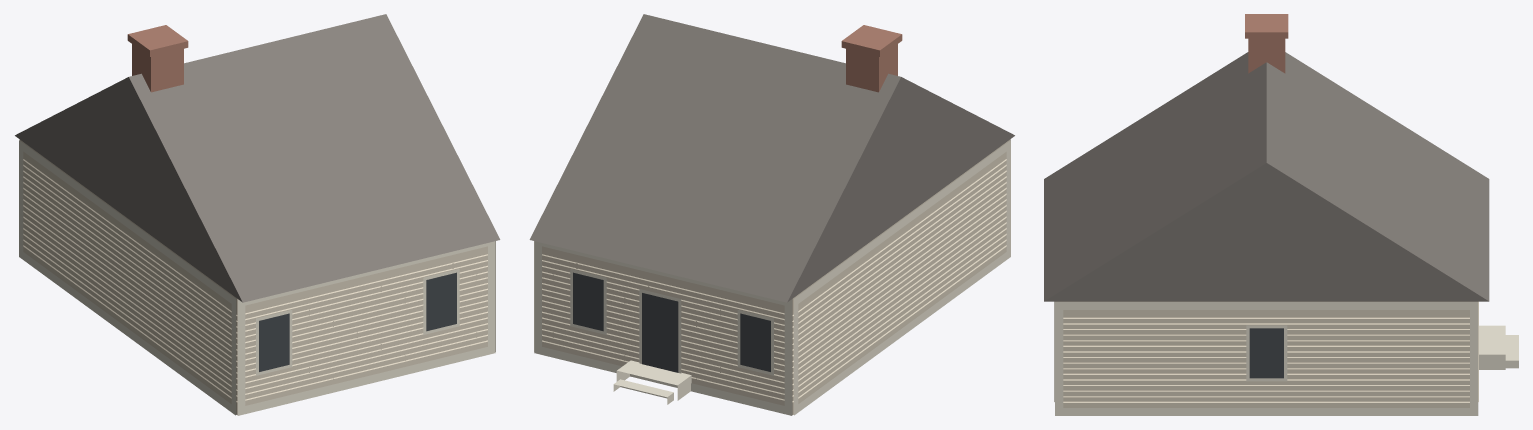
File: recon_1835_blk_randolph_franklin_d5_02__inferred_1835.glb
The picture shows the model from 3 angles, left to right: view 1: azimuth 30°, elevation 25°; view 2: azimuth 150°, elevation 25°; view 3: azimuth 270°, elevation 25°; orthographic projection. The views are drawn at different scales.
Parts seen in each view (by area): view 1: recon_1835_blk_randolph_franklin_d5_02__inferred_1835; view 2: recon_1835_blk_randolph_franklin_d5_02__inferred_1835; view 3: recon_1835_blk_randolph_franklin_d5_02__inferred_1835.
Boxes of the visible parts, <box> form: recon_1835_blk_randolph_franklin_d5_02__inferred_1835: <box>15,14,500,415</box>; recon_1835_blk_randolph_franklin_d5_02__inferred_1835: <box>529,14,1014,415</box>; recon_1835_blk_randolph_franklin_d5_02__inferred_1835: <box>1044,14,1518,415</box>.
Bounding box in the file's own units: 6.65 × 7.09 × 10.76.
